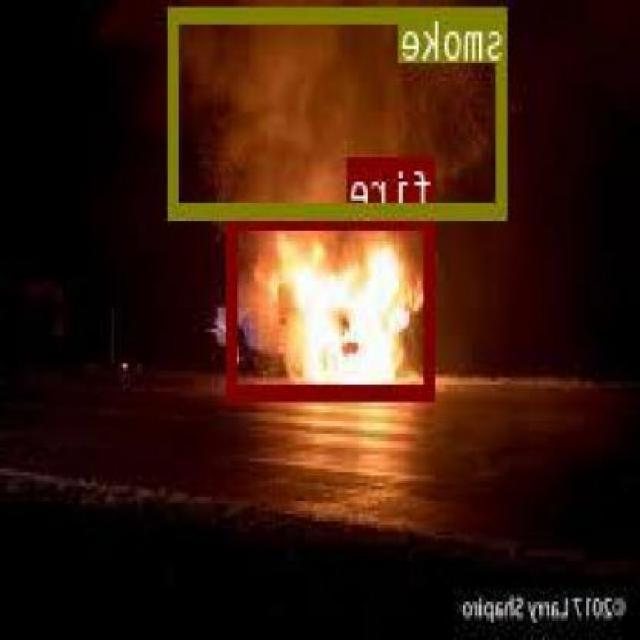Fire: (229, 209, 437, 397)
Smoke: (170, 4, 510, 218)
